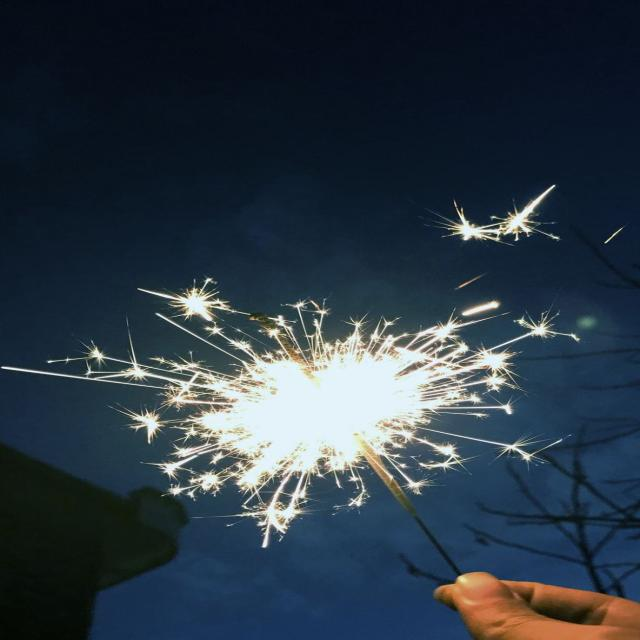fire: (200, 356, 451, 489)
